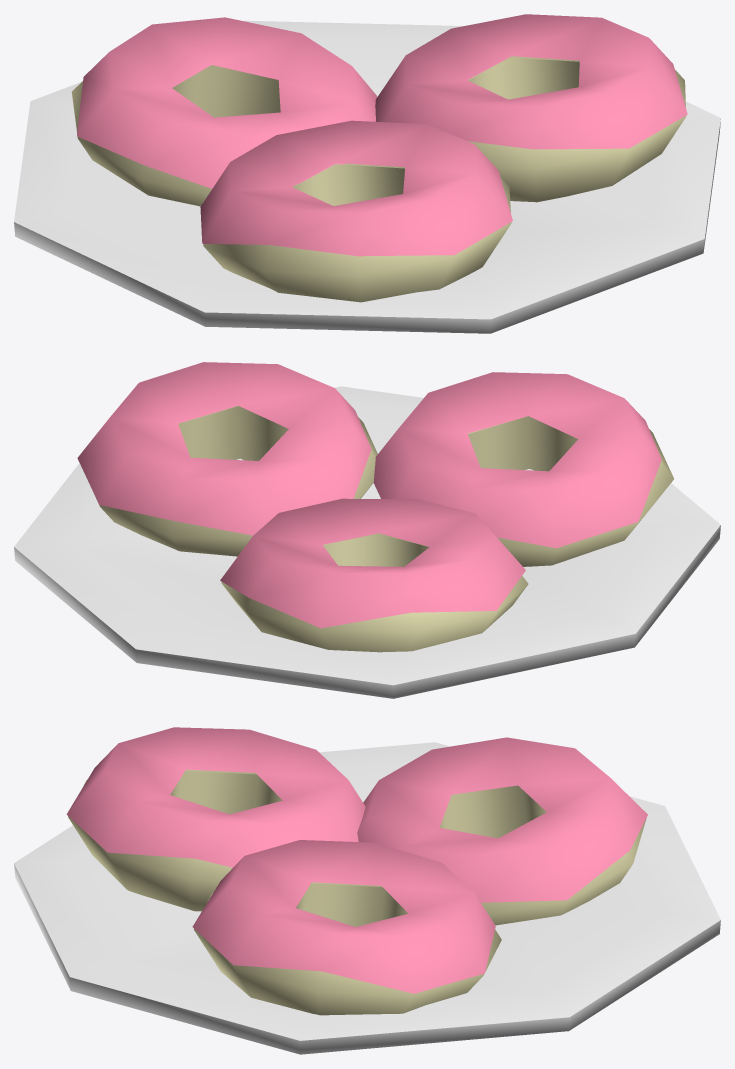
The model's file is shop_017.glb.
3 views of the same model, one above another, from view 1: azimuth 30°, elevation 25°; view 2: azimuth 150°, elevation 25°; view 3: azimuth 270°, elevation 25° (orthographic). The views are drawn at different scales.
Visible parts, largest first — view 1: shop_017; view 2: shop_017; view 3: shop_017.
Part boxes in pixels (x1=…): shop_017: x1=14, y1=14, x2=720, y2=333; shop_017: x1=14, y1=362, x2=720, y2=698; shop_017: x1=14, y1=727, x2=720, y2=1054.
Bounding box in the file's own units: 0.2193 × 0.0448 × 0.2194.
1 material, 1 textured.
